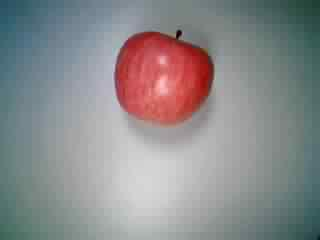apple: (110, 23, 215, 125)
